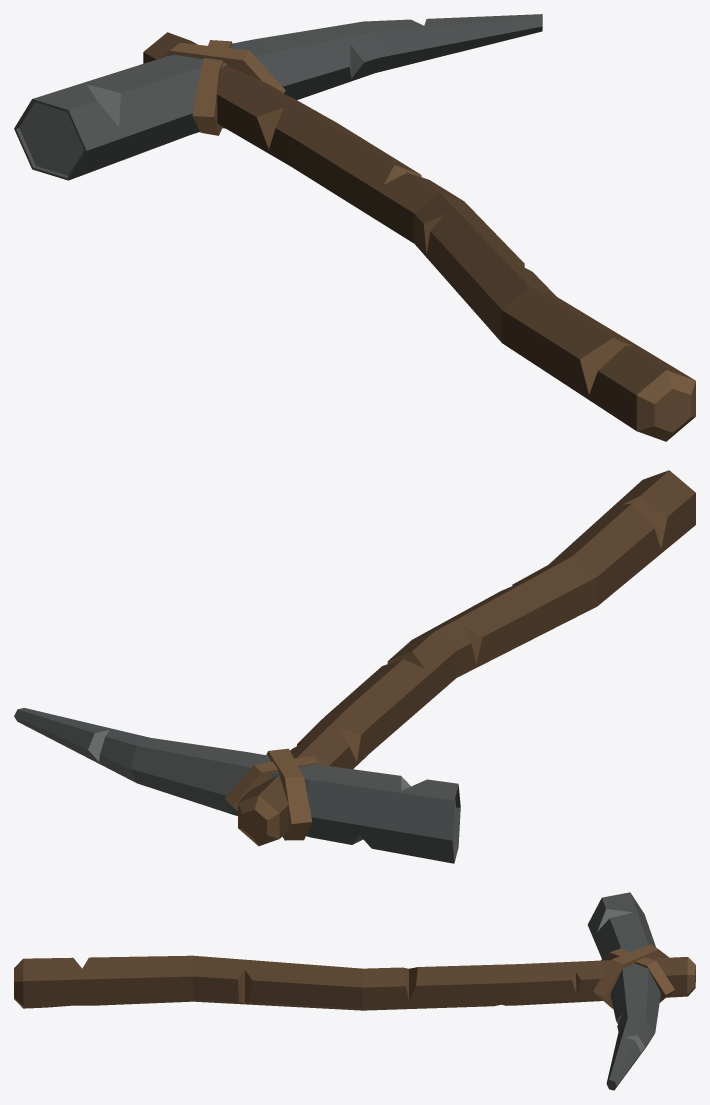
File: Pickaxe_4_Brown.fbx
The picture shows the model from 3 angles, top to bottom: view 1: azimuth 30°, elevation 25°; view 2: azimuth 150°, elevation 25°; view 3: azimuth 270°, elevation 25°; orthographic projection. The views are drawn at different scales.
Parts seen in each view (by area): view 1: Pickaxe_4_Brown_Part_1, Pickaxe_4_Brown_Part_3, Pickaxe_4_Brown_Part_2, Pickaxe_4_Brown_Part_4; view 2: Pickaxe_4_Brown_Part_1, Pickaxe_4_Brown_Part_3, Pickaxe_4_Brown_Part_2; view 3: Pickaxe_4_Brown_Part_1, Pickaxe_4_Brown_Part_3, Pickaxe_4_Brown_Part_2, Pickaxe_4_Brown_Part_4.
Part boxes in pixels (x1,y1,x2,y2): Pickaxe_4_Brown_Part_1: (143, 32, 694, 430); Pickaxe_4_Brown_Part_3: (14, 14, 542, 180); Pickaxe_4_Brown_Part_2: (159, 40, 695, 441); Pickaxe_4_Brown_Part_4: (19, 44, 364, 175); Pickaxe_4_Brown_Part_1: (238, 470, 695, 838); Pickaxe_4_Brown_Part_3: (14, 708, 460, 863); Pickaxe_4_Brown_Part_2: (225, 495, 667, 846); Pickaxe_4_Brown_Part_1: (23, 955, 687, 1010); Pickaxe_4_Brown_Part_3: (587, 892, 660, 1090); Pickaxe_4_Brown_Part_2: (14, 944, 695, 1008); Pickaxe_4_Brown_Part_4: (597, 909, 644, 1055).
Bounding box in the file's own units: 29.63 × 4 × 49.51.
